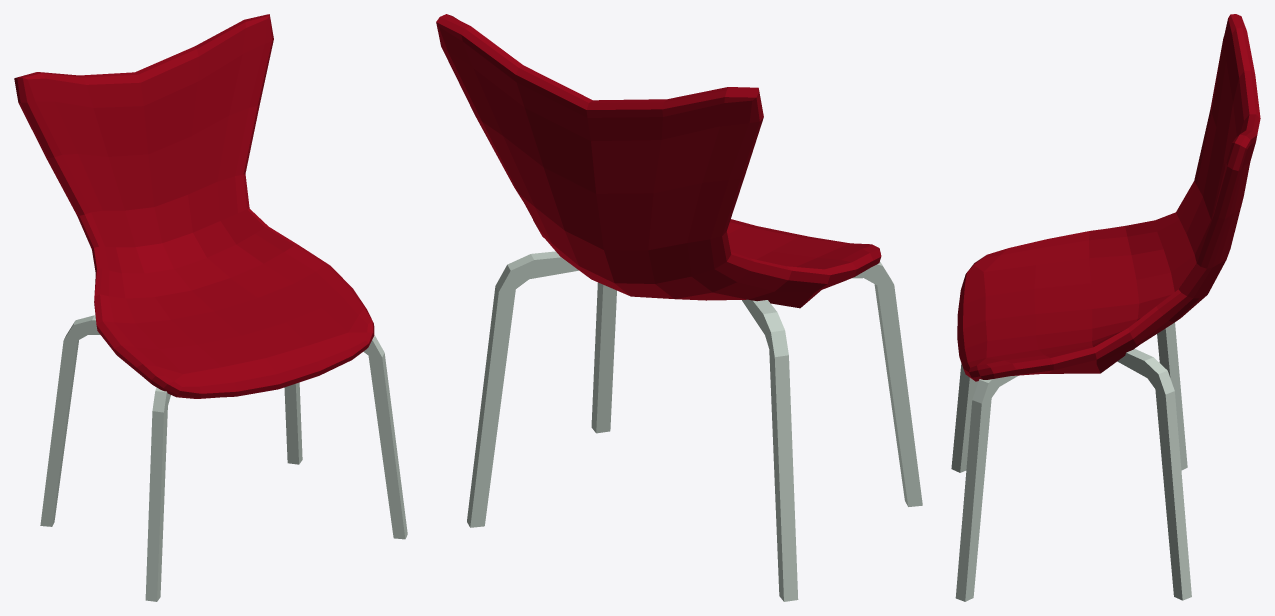
Rendered from Bedroom3_chair.fbx.
The picture shows the model from 3 angles, left to right: view 1: azimuth 30°, elevation 25°; view 2: azimuth 150°, elevation 25°; view 3: azimuth 270°, elevation 25°; orthographic projection. The views are drawn at different scales.
Parts seen in each view (by area): view 1: Bedroom3_chair; view 2: Bedroom3_chair; view 3: Bedroom3_chair.
Boxes of the visible parts, x1,y1,x2,y2 form: Bedroom3_chair: (14, 14, 407, 601); Bedroom3_chair: (436, 14, 922, 601); Bedroom3_chair: (951, 14, 1260, 601).
Size of the model in its own units: 110 by 104 by 169.
